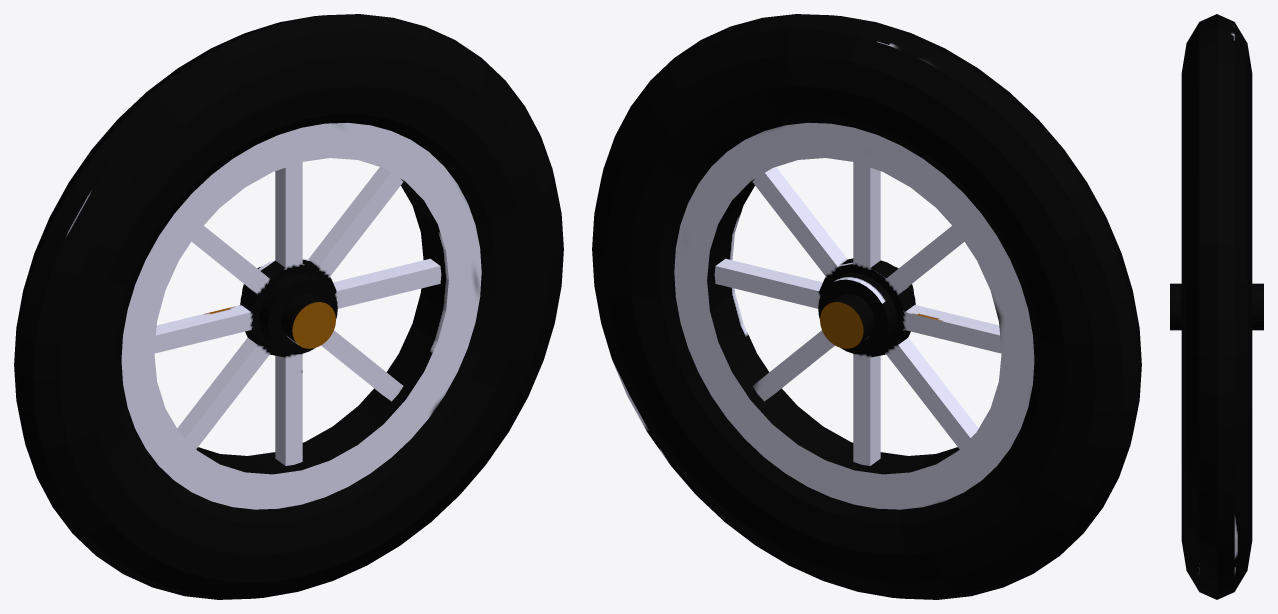
Rendered from Wheel.fbx.
3 renders of one model, left to right at view 1: azimuth 30°, elevation 25°; view 2: azimuth 150°, elevation 25°; view 3: azimuth 270°, elevation 25°, orthographic. The views are drawn at different scales.
Parts seen in each view (by area): view 1: Cylinder.001; view 2: Cylinder.001; view 3: Cylinder.001.
Boxes of the visible parts, bbox=[...] form: Cylinder.001: bbox=[14, 14, 563, 599]; Cylinder.001: bbox=[592, 14, 1141, 599]; Cylinder.001: bbox=[1170, 14, 1263, 599].
Bounding box in the file's own units: 1.25 × 1.25 × 0.2.
1 material, 1 textured.
